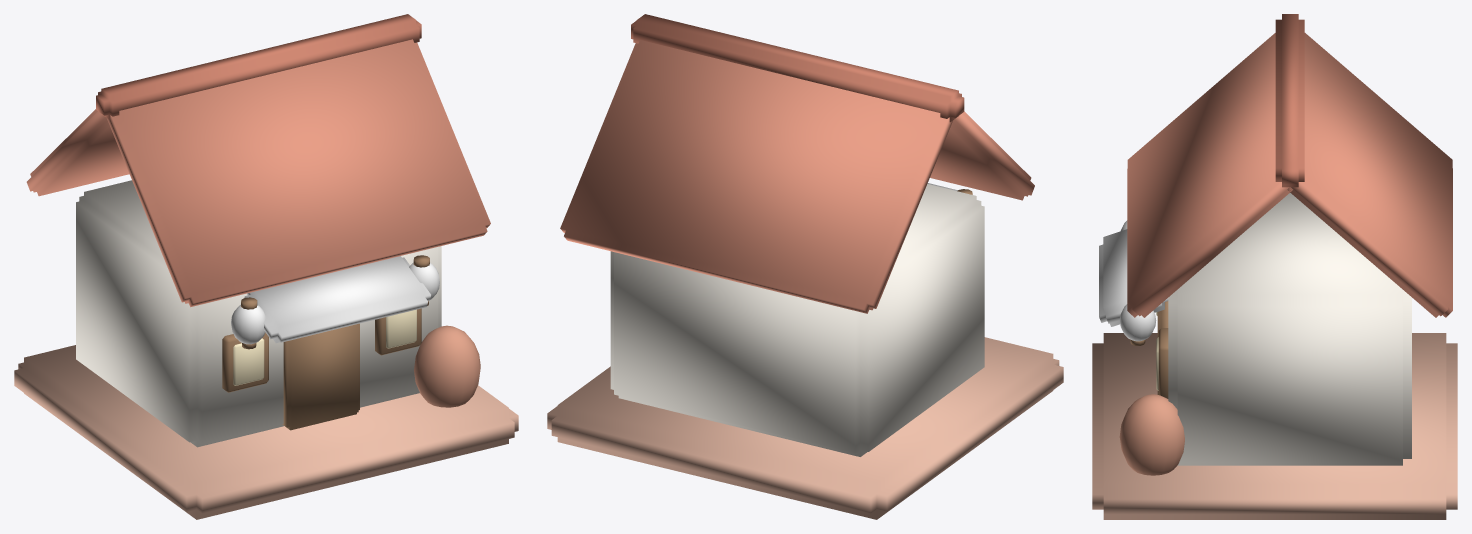
Rendered from lvl1_bacbo.glb.
3 views of the same model, side by side, from view 1: azimuth 30°, elevation 25°; view 2: azimuth 150°, elevation 25°; view 3: azimuth 270°, elevation 25° (orthographic). The views are drawn at different scales.
Parts seen in each view (by area): view 1: lvl1_bacbo; view 2: lvl1_bacbo; view 3: lvl1_bacbo.
Boxes of the visible parts, bbox=[...] form: lvl1_bacbo: bbox=[14, 14, 518, 519]; lvl1_bacbo: bbox=[547, 14, 1063, 519]; lvl1_bacbo: bbox=[1092, 14, 1457, 519].
Bounding box in the file's own units: 0.5 × 0.516 × 0.48.
